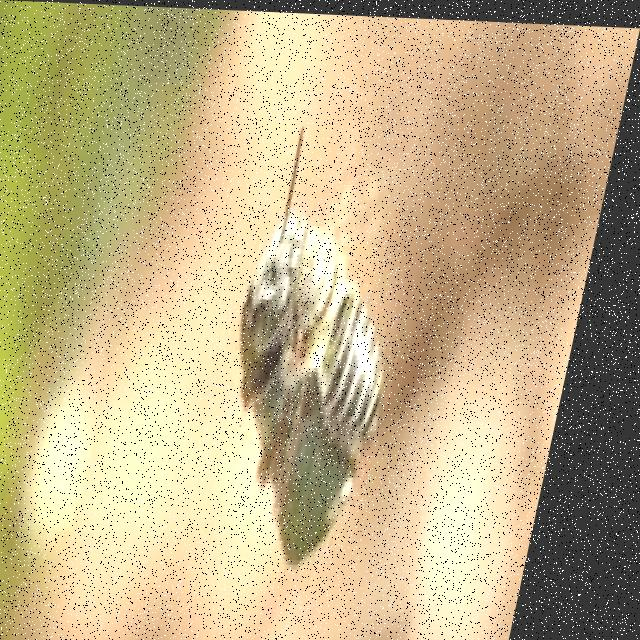Seladonia: (199, 141, 453, 555)
